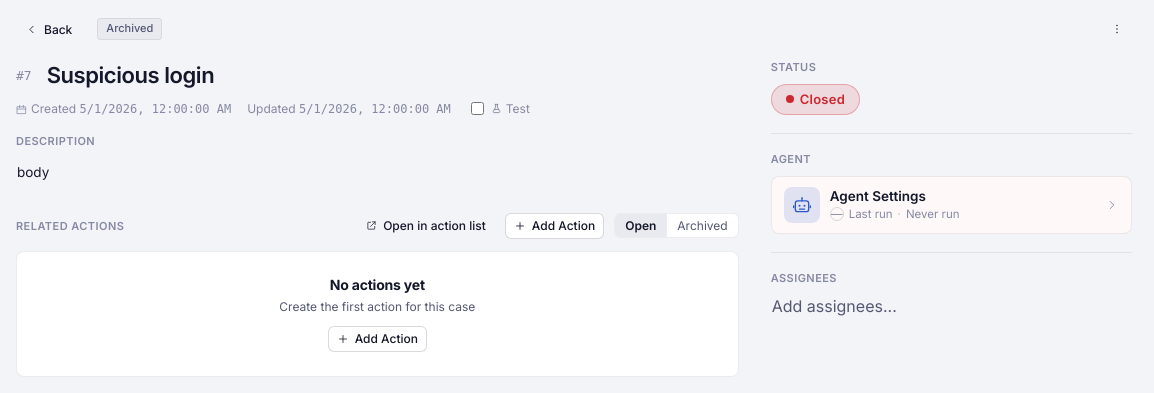
it: CaseDetail archive controls › shows the Archived badge and offers Restore on an archived case
The image size is (1154, 393).
Check: the text "Suspicious login" is shown, box x1=47 y1=61 x2=214 y2=90
Check: the text "Archived" is shown, box x1=97 y1=18 x2=162 y2=40
Click the button with test id "case-menu-button" at (1117, 29), box x1=1102 y1=16 x2=1132 y2=42
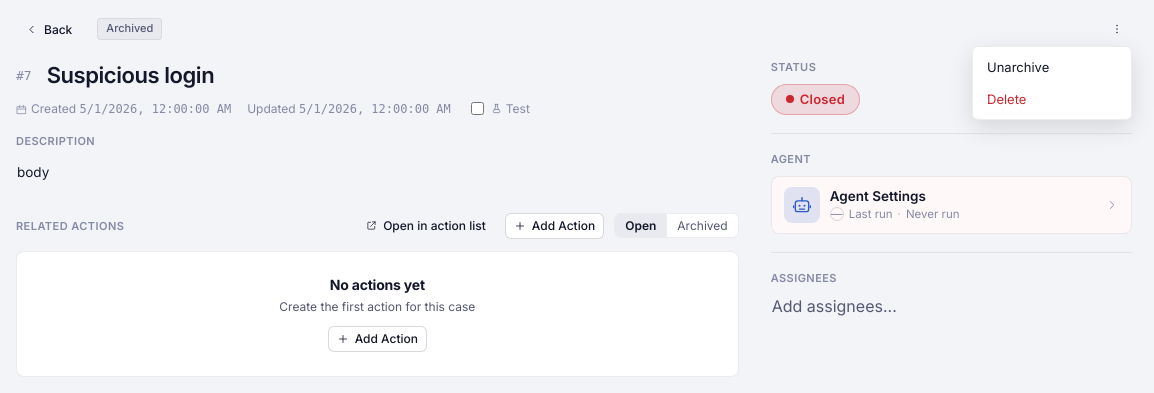
Check: the button with test id "case-unarchive-menu-item" is shown, box x1=977 y1=51 x2=1127 y2=83
